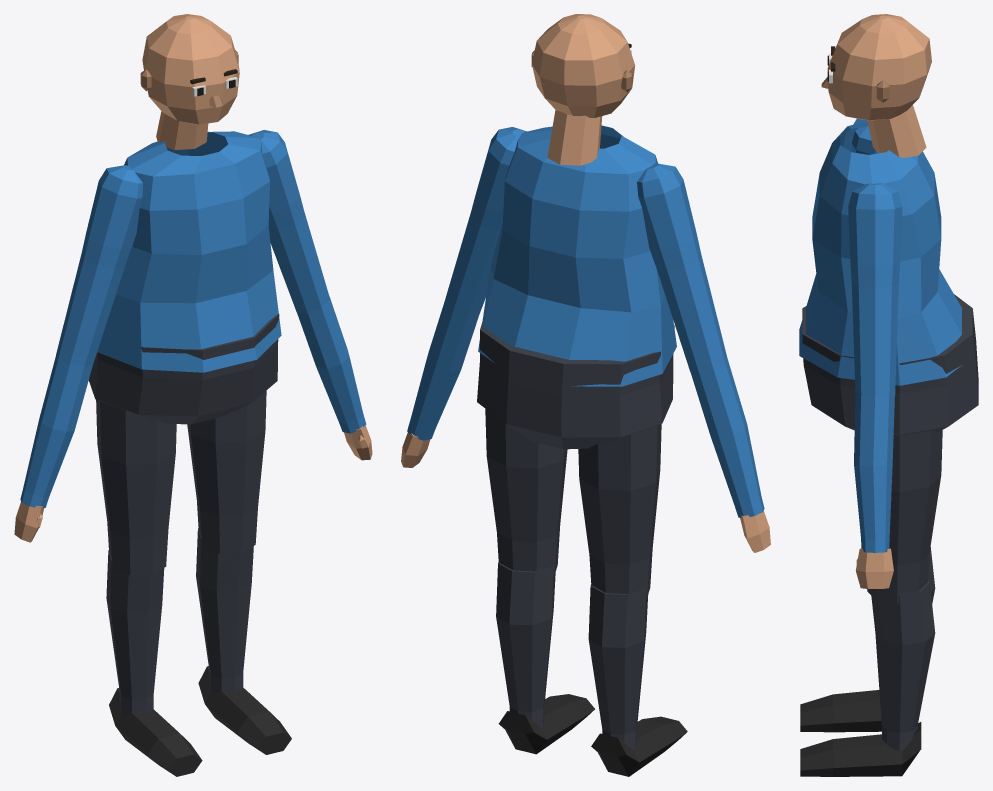
File: senior_f_rond.glb
3 renders of one model, left to right at view 1: azimuth 30°, elevation 25°; view 2: azimuth 150°, elevation 25°; view 3: azimuth 270°, elevation 25°, orthographic. The views are drawn at different scales.
Parts seen in each view (by area): view 1: torse, jambe_d, bassin, tete, tibia_g, tibia_d, jambe_g, bras_d, bras_g, avant_bras_d, avant_bras_g; view 2: torse, bassin, jambe_d, tete, tibia_g, tibia_d, jambe_g, bras_d, avant_bras_d, bras_g, avant_bras_g; view 3: torse, tibia_g, tete, bras_g, bassin, jambe_g, avant_bras_g, tibia_d, bras_d.
Boxes of the visible parts, x1=… form: torse: x1=97, y1=131, x2=281, y2=372; jambe_d: x1=96, y1=400, x2=176, y2=575; bassin: x1=88, y1=313, x2=279, y2=424; tete: x1=140, y1=14, x2=239, y2=149; tibia_g: x1=196, y1=528, x2=291, y2=754; tibia_d: x1=106, y1=550, x2=202, y2=776; jambe_g: x1=187, y1=390, x2=266, y2=553; bras_d: x1=56, y1=165, x2=142, y2=365; bras_g: x1=248, y1=130, x2=329, y2=313; avant_bras_d: x1=14, y1=356, x2=92, y2=542; avant_bras_g: x1=297, y1=297, x2=372, y2=460; torse: x1=478, y1=125, x2=676, y2=386; bassin: x1=477, y1=322, x2=674, y2=449; jambe_d: x1=578, y1=424, x2=661, y2=597; tete: x1=531, y1=14, x2=635, y2=165; tibia_g: x1=496, y1=562, x2=594, y2=754; tibia_d: x1=588, y1=584, x2=687, y2=776; jambe_g: x1=485, y1=409, x2=567, y2=575; bras_d: x1=637, y1=163, x2=727, y2=373; avant_bras_d: x1=690, y1=359, x2=770, y2=552; bras_g: x1=444, y1=127, x2=526, y2=317; avant_bras_g: x1=401, y1=304, x2=478, y2=467; torse: x1=799, y1=121, x2=961, y2=385; tibia_g: x1=800, y1=581, x2=935, y2=776; tete: x1=821, y1=14, x2=931, y2=157; bras_g: x1=848, y1=183, x2=902, y2=397; bassin: x1=802, y1=294, x2=978, y2=435; jambe_g: x1=867, y1=430, x2=942, y2=603; avant_bras_g: x1=854, y1=392, x2=894, y2=588; tibia_d: x1=800, y1=547, x2=935, y2=732; bras_d: x1=852, y1=118, x2=878, y2=154.
Bounding box in the file's own units: 0.8137 × 1.59 × 0.3516.
1 material, 1 textured.
